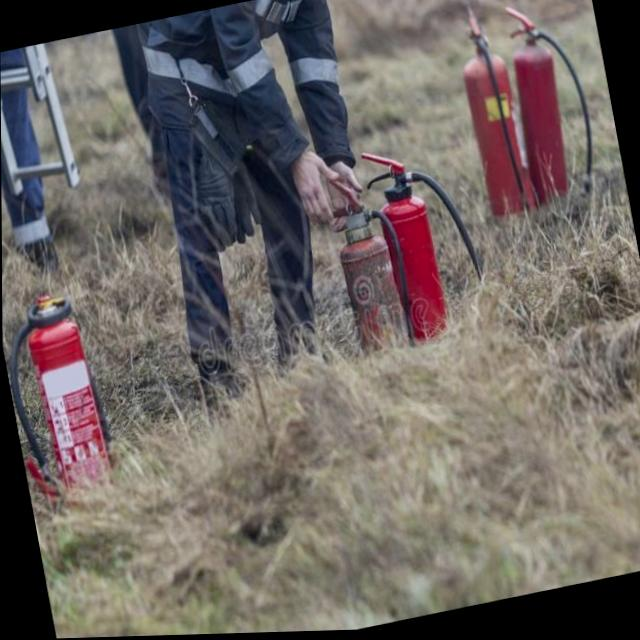FireExtinguisher: (352, 125, 500, 363), (2, 270, 128, 512), (494, 0, 609, 231), (438, 0, 544, 246), (302, 153, 413, 366)
